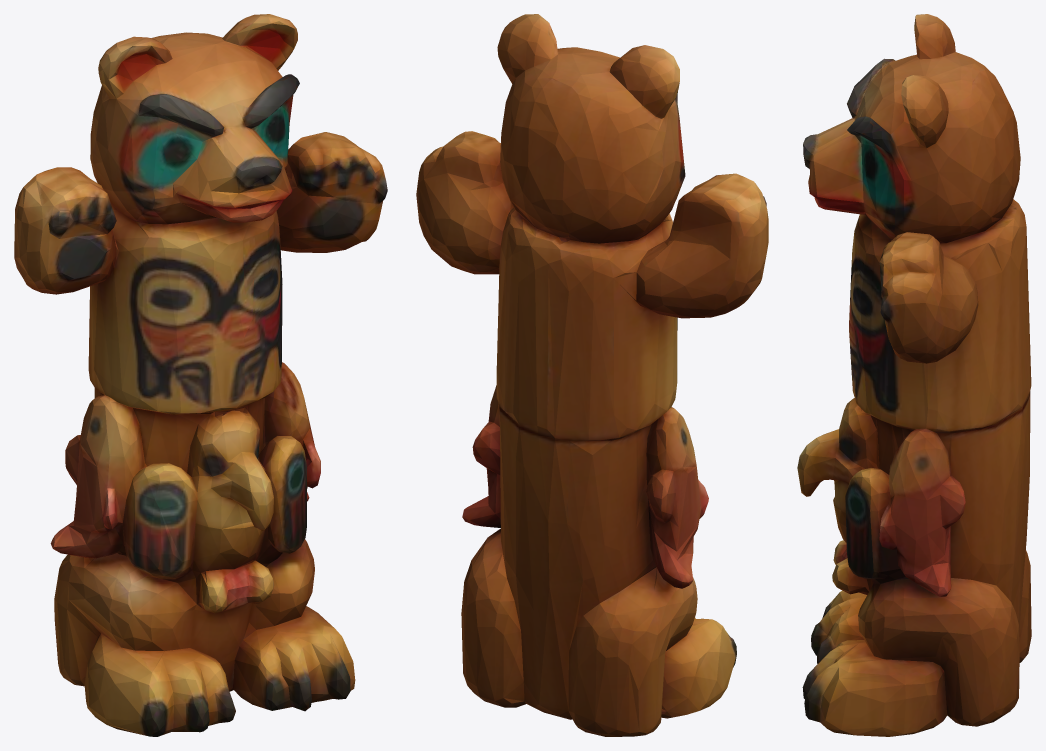
The model's file is pole_bear.glb.
3 renders of one model, left to right at view 1: azimuth 30°, elevation 25°; view 2: azimuth 150°, elevation 25°; view 3: azimuth 270°, elevation 25°, orthographic. The views are drawn at different scales.
Visible parts, largest first — view 1: geometry_0; view 2: geometry_0; view 3: geometry_0.
Boxes of the visible parts, x1=… form: geometry_0: x1=14, y1=14, x2=387, y2=736; geometry_0: x1=416, y1=14, x2=768, y2=736; geometry_0: x1=797, y1=14, x2=1031, y2=736.
Size of the model in its own units: 0.5529 by 0.9981 by 0.3325.
1 material, 1 textured.
